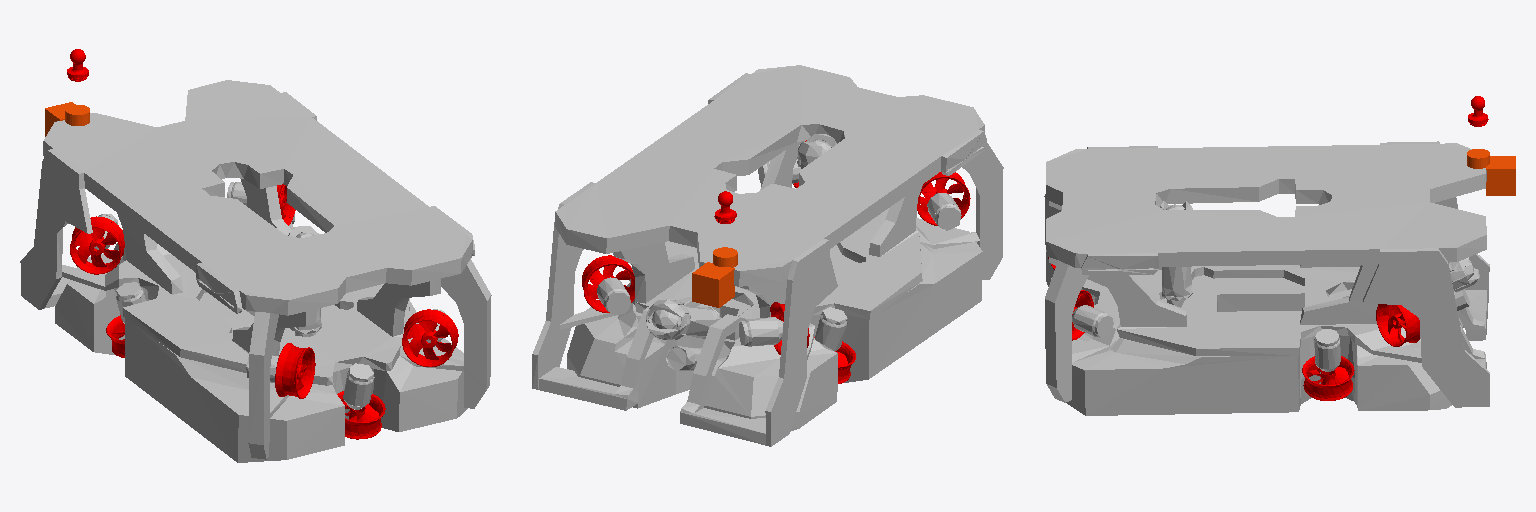
URDF robot description (bluevolta_bravo7_no_ee):
<?xml version="1.0"?>
<robot name="bluevolta_bravo7_no_ee">

        <material name="green">
                <color rgba="0.235 0.702 0.443 1"/>
        </material>

        <material name="blue">
                <color rgba="0.263 0.733 0.984 1"/>
        </material>

        <material name="red">
                <color rgba="1 0 0 1"/>
        </material>

        <material name="black">
                <color rgba="0.8 0.8 0.8 1"/>
        </material>

        <material name="orange">
                <color rgba="1 0.369 0.047 1"/>
        </material>

            <link name="bluevolta">
                <!--Inertial parameters are not correct-->
                <inertial>
                    <mass value="200.0"/>
                    <origin xyz="0 0 0"/>
                    <inertia ixx="0.01152" ixy="0.0" ixz="0.0" iyy="0.01152" iyz="0.0" izz="0.0218"/>
                </inertial>
                <visual>
                    <origin rpy="0 0 0" xyz="0 0 0"/>
                    <geometry>
                        <mesh filename="package://example-robot-data/robots/bluevolta_description/meshes/bluevolta.stl"/>
                    </geometry>
                    <material name="black"/>
                </visual>
                <collision>
                    <origin rpy="0 0 0" xyz="0 0 0"/>
                    <geometry>
                        <mesh filename="package://example-robot-data/robots/bluevolta_description/meshes/bluevolta_convex_hull.stl"/>
                    </geometry>
                </collision>
            </link>

            <!--THRUSTERS-->
            <link name="Thruster_TOP_FL">
                <visual>
                    <geometry>
                        <mesh filename="package://example-robot-data/robots/bluevolta_description/meshes/bluevolta_propeller.stl"/>
                    </geometry>
                    <material name="red"/>
                </visual>
            </link>

            <link name="Thruster_TOP_FR">
                <visual>
                    <geometry>
                        <mesh filename="package://example-robot-data/robots/bluevolta_description/meshes/bluevolta_propeller.stl"/>
                    </geometry>
                    <material name="red"/>
                </visual>
            </link>

            <link name="Thruster_TOP_B">
                <visual>
                    <geometry>
                        <mesh filename="package://example-robot-data/robots/bluevolta_description/meshes/bluevolta_propeller.stl"/>
                    </geometry>
                    <material name="red"/>
                </visual>
            </link>

            <link name="Thruster_BOTTOM_FL">
                <visual>
                    <geometry>
                        <mesh filename="package://example-robot-data/robots/bluevolta_description/meshes/bluevolta_propeller.stl"/>
                    </geometry>
                    <material name="red"/>
                </visual>
            </link>

            <link name="Thruster_BOTTOM_FR">
                <visual>
                    <geometry>
                        <mesh filename="package://example-robot-data/robots/bluevolta_description/meshes/bluevolta_propeller.stl"/>
                    </geometry>
                    <material name="red"/>
                </visual>
            </link>

            <link name="Thruster_BOTTOM_BL">
                <visual>
                    <geometry>
                        <mesh filename="package://example-robot-data/robots/bluevolta_description/meshes/bluevolta_propeller.stl"/>
                    </geometry>
                    <material name="red"/>
                </visual>
            </link>

            <link name="Thruster_BOTTOM_BR">
                <visual>
                    <geometry>
                        <mesh filename="package://example-robot-data/robots/bluevolta_description/meshes/bluevolta_propeller.stl"/>
                    </geometry>
                    <material name="red"/>
                </visual>
            </link>

                    <joint name="Thruster_TOP_FL_joint" type="fixed">
                        <parent link="bluevolta"/>
                        <child link="Thruster_TOP_FL"/>
                        <origin rpy="0.0 1.8 0.0" xyz="0.34 0.25 -0.28"/>
                    </joint>

                    <joint name="Thruster_TOP_FR_joint" type="fixed">
                        <parent link="bluevolta"/>
                        <child link="Thruster_TOP_FR"/>
                        <origin rpy="0.0 1.34 0.0" xyz="-0.34 0.25 -0.28"/>
                    </joint>

                    <joint name="Thruster_TOP_B_joint" type="fixed">
                        <parent link="bluevolta"/>
                        <child link="Thruster_TOP_B"/>
                        <origin rpy="0.0 1.8 -1.57" xyz="0.0 -0.6 -0.3"/>
                    </joint>

                    <joint name="Thruster_BOTTOM_FR_joint" type="fixed">
                        <parent link="bluevolta"/>
                        <child link="Thruster_BOTTOM_FR"/>
                        <origin rpy="0.0 0.0 -2.24" xyz="-0.31 0.52 -0.1"/>
                    </joint>

                    <joint name="Thruster_BOTTOM_BL_joint" type="fixed">
                        <parent link="bluevolta"/>
                        <child link="Thruster_BOTTOM_BL"/>
                        <origin rpy="0.0 0.0 -2.24" xyz="0.27 -0.6 -0.11"/>
                    </joint>

                    <joint name="Thruster_BOTTOM_FL_joint" type="fixed">
                        <parent link="bluevolta"/>
                        <child link="Thruster_BOTTOM_FL"/>
                        <origin rpy="0.0 0.0 -0.9" xyz="0.31 0.52 -0.1"/>
                    </joint>

                    <joint name="Thruster_BOTTOM_BR_joint" type="fixed">
                        <parent link="bluevolta"/>
                        <child link="Thruster_BOTTOM_BR"/>
                        <origin rpy="0.0 0.0 -0.9" xyz="-0.27 -0.6 -0.11"/>
                    </joint>

        <!--Arm attaching link-->
        <link name="box_base_bravo">
            <visual>
                <geometry>
                    <box size="0.1 0.1 0.1"/>
                </geometry>
                <material name="orange"/>
            </visual>
        </link>

                <joint name="box_base_bravo_joint" type="fixed">
                        <origin xyz="-0.25 0.835 0.17" rpy="0 0 0"/>
                    <parent link="bluevolta"/>
                    <child link="box_base_bravo"/>
                </joint>

                <joint name="base2arm" type="fixed">
                    <parent link="box_base_bravo"/>
                    <child link="link1"/>
                    <origin rpy="3.14 0.0 1.57" xyz="0 -0.05 -0.05"/>
                </joint>

          <!-- Bravo7 with sphere end-effector -->
            <link name="link1">
                <visual>
                    <geometry>
                        <mesh filename="package://example-robot-data/robots/bravo7_description/meshes/RS2-266.stl"/>
                    </geometry>
                    <material name="blue"/>
                </visual>
                <inertial>
                    <mass value="1.25"/>
                    <origin xyz="-0.075 -0.006 -0.003"/>
                    <inertia ixx="0.002108" ixy="0.000182" ixz="-0.000015" iyy="0.002573" iyz="-0.000021" izz="0.003483"/>
                </inertial>
                <collision>
                    <geometry>
                        <mesh filename="package://example-robot-data/robots/bravo7_description/meshes/RS2-266_convex_hull.stl"/>
                    </geometry>
                </collision>
            </link>

                    <joint name="joint1" type="continuous">
                        <parent link="link1"/>
                        <child link="link2"/>
                        <origin rpy="0 0 0" xyz="0.0665 0 0.078"/>
                        <axis xyz="0 0 -1"/>
                    </joint>

            <link name="link2">
                <visual>
                    <geometry>
                        <mesh filename="package://example-robot-data/robots/bravo7_description/meshes/RS2-217.stl"/>
                    </geometry>
                    <material name="green"/>
                </visual>
                <inertial>
                        <mass value="1.55" />
                        <inertia ixx="0.011442" ixy="-0.000484" ixz="0.003405" iyy="0.01298" iyz="-0.001265" izz="0.003202"/>
                        <origin xyz="0.005 -0.001 0.016" />
                </inertial>
                <collision>
                    <geometry>
                        <mesh filename="package://example-robot-data/robots/bravo7_description/meshes/RS2-217_convex_hull.stl"/>
                    </geometry>
                </collision>
            </link>

                    <joint name="joint2" type="revolute">
                        <parent link="link2"/>
                        <child link="link3"/>
                        <origin rpy="0 0 0" xyz="-0.046 0 0.0674"/>
                        <axis xyz="0 1 0"/>
                        <limit effort="9.0" lower="0.0" upper="3.5" velocity="0.5"/>
                    </joint>

            <link name="link3">
                <visual>
                    <geometry>
                        <mesh filename="package://example-robot-data/robots/bravo7_description/meshes/RS2-250-212-214.stl"/>
                    </geometry>
                    <material name="blue"/>
                </visual>
                <inertial>
                    <mass value="1.14" />
                    <origin xyz="0.022 -0.029 0.001" />
                    <inertia ixx="0.003213" ixy="-0.001548" ixz="-0.000031" iyy="0.002327" iyz="0.000006" izz="0.00434"/>
                </inertial>
                <collision>
                    <geometry>
                        <mesh filename="package://example-robot-data/robots/bravo7_description/meshes/RS2-250-212-214_convex_hull.stl"/>
                    </geometry>
                </collision>
            </link>

                    <joint name="joint3" type="revolute">
                        <parent link="link3"/>
                        <child link="link4"/>
                        <origin rpy="0 0 0" xyz="-0.0052 0 -0.29055"/>
                        <axis xyz="0 1 0"/>
                        <limit effort="9.0" lower="0.0" upper="3.5" velocity="0.5"/>
                    </joint>

            <link name="link4">
                <visual>
                    <geometry>
                        <mesh filename="package://example-robot-data/robots/bravo7_description/meshes/RS2-268.stl"/>
                    </geometry>
                    <material name="green"/>
                </visual>
                <collision>
                    <geometry>
                        <mesh filename="package://example-robot-data/robots/bravo7_description/meshes/RS2-268_convex_hull.stl"/>
                    </geometry>
                    <material name="green"/>
                </collision>
                <inertial>
                    <origin xyz="0.017 -0.026 -0.002" rpy="0.0 -0.0 0.0" />
                    <mass value="1.14" />
                    <inertia ixx="0.021232" ixy="0.00033" ixz="-0.003738" iyy="0.022252" iyz="-0.001278" izz="0.002054"/>
                </inertial>
            </link>

                    <joint name="joint4" type="continuous">
                        <parent link="link4"/>
                        <child link="link5"/>
                        <origin rpy="0 0 0" xyz="0.0408 0 0.09695"/>
                        <axis xyz="0 0 -1"/>
                    </joint>

            <link name="link5">
                <visual>
                    <geometry>
                        <mesh filename="package://example-robot-data/robots/bravo7_description/meshes/RS2-214.stl"/>
                    </geometry>
                    <material name="blue"/>
                </visual>
                <inertial>
                    <mass value="1.03" />
                    <origin xyz="0.020 -0.024 0.001" />
                    <inertia ixx="0.00243" ixy="-0.001144" ixz="-0.00004" iyy="0.002026" iyz="0.000011" izz="0.00333"/>
                </inertial>
                <collision>
                    <geometry>
                        <mesh filename="package://example-robot-data/robots/bravo7_description/meshes/RS2-214_convex_hull.stl"/>
                    </geometry>
                </collision>
            </link>

                    <joint name="joint5" type="revolute">
                        <parent link="link5"/>
                        <child link="link6"/>
                        <origin rpy="0 0 0" xyz="-0.0408 0 0.063"/>
                        <axis xyz="0 1 0"/>
                        <limit effort="9.0" lower="0.0" upper="3.5" velocity="0.5"/>
                    </joint>

            <link name="link6">
                <visual>
                    <geometry>
                        <mesh filename="package://example-robot-data/robots/bravo7_description/meshes/RS2-161.stl"/>
                    </geometry>
                    <material name="green"/>
                </visual>
                <inertial>
                    <origin xyz="0.0 0.003 -0.098" rpy="0.0 -0.0 0.0" />
                    <mass value="0.333" />
                    <inertia ixx="0.003709" ixy="-0.000002" ixz="-0.000004" iyy="0.003734" iyz="0.0" izz="0.000079" />
                </inertial>
                <collision>
                    <geometry>
                        <mesh filename="package://example-robot-data/robots/bravo7_description/meshes/RS2-161_convex_hull.stl"/>
                    </geometry>
                </collision>
            </link>

                    <joint name="joint6" type="continuous">
                        <parent link="link6"/>
                        <child link="link7"/>
                        <origin rpy="0 3.14159 0" xyz="-0.0408 0 -0.14863"/>
                        <axis xyz="0 0 -1"/>
                    </joint>

            <link name="link7">
                <visual>
                    <geometry>
                        <mesh filename="package://example-robot-data/robots/bravo7_description/meshes/RS2-180.stl"/>
                    </geometry>
                    <material name="blue"/>
                </visual>
                <inertial>
                    <origin xyz="0.0 0.003 -0.098" />
                    <mass value="1.04" />
                    <inertia ixx="0.022359" ixy="0.000001" ixz="-0.000019" iyy="0.022363" iyz="0.000015" izz="0.000936"/>
                </inertial>
                <collision>
                    <geometry>
                        <mesh filename="package://example-robot-data/robots/bravo7_description/meshes/RS2-180_convex_hull.stl"/>
                    </geometry>
                </collision>
            </link>

            <link name="force_torque_sensor">
                <visual>
                    <geometry>
                        <cylinder length="0.06" radius="0.04"/>
                    </geometry>
                    <material name="orange"/>
                </visual>
                <collision>
                    <geometry>
                        <cylinder length="0.06" radius="0.04"/>
                    </geometry>
                    <material name="orange"/>
                </collision>
            </link>

                    <joint name="FT_fixed_1" type="fixed">
                        <origin rpy="0 0 1.57" xyz=" 0 0 -0.03"/>
                        <parent link="link7"/>
                        <child link="force_torque_sensor"/>
                    </joint>

            <link name="end_effector_ball">
                <visual>
                    <geometry>
                        <mesh filename="package://example-robot-data/robots/bravo7_description/meshes/end_effectors/contact_sphere.stl"/>
                    </geometry>
                    <material name="red"/>
                </visual>
                <collision>
                    <geometry>
                        <mesh filename="package://example-robot-data/robots/bravo7_description/meshes/end_effectors/contact_sphere_convex_hull.stl"/>
                    </geometry>
                    <material name="red"/>
                </collision>
            </link>

                    <joint name="bravo_EE_joint" type="fixed">
                        <origin rpy="0 -1.57 0" xyz=" 0.045 -0.035 0.113"/>
                        <parent link="link7"/>
                        <child link="end_effector_ball"/>
                    </joint>

            <link name="contact_point"/>

                    <joint name="contact_point_joint" type="fixed">
                        <origin rpy="0 0 0" xyz="0 0 0.24"/>
                        <parent link="force_torque_sensor"/>
                        <child link="contact_point"/>
                    </joint>
</robot>

--- What the picture shows (computed from the rendered views, not written in the file) ---
Views: 3 orthographic renders of the robot side by side, from view 1: azimuth 30°, elevation 25°; view 2: azimuth 150°, elevation 25°; view 3: azimuth 270°, elevation 25°.
Model bluevolta_bravo7_no_ee with 19 links and 18 joints (3 revolute, 3 continuous, 12 fixed), rooted at bluevolta, posed all joints at 0.
Visible links, largest first — view 1: bluevolta, Thruster_BOTTOM_BL, Thruster_BOTTOM_FR, Thruster_BOTTOM_BR, Thruster_TOP_B, Thruster_TOP_FR; view 2: bluevolta, box_base_bravo, Thruster_BOTTOM_FL, Thruster_BOTTOM_BR, Thruster_TOP_FR; view 3: bluevolta, Thruster_TOP_FL, Thruster_BOTTOM_FL, box_base_bravo.
Boxes of the visible links, box(x1,y1,x2,y2) form: bluevolta: box(20, 80, 491, 462); Thruster_BOTTOM_BL: box(402, 309, 458, 366); Thruster_BOTTOM_FR: box(70, 216, 124, 274); Thruster_BOTTOM_BR: box(275, 343, 315, 398); Thruster_TOP_B: box(337, 391, 385, 439); Thruster_TOP_FR: box(106, 315, 124, 357); bluevolta: box(532, 65, 1003, 446); box_base_bravo: box(692, 262, 734, 307); Thruster_BOTTOM_FL: box(582, 255, 634, 312); Thruster_BOTTOM_BR: box(917, 172, 970, 225); Thruster_TOP_FR: box(814, 337, 855, 383); bluevolta: box(1044, 141, 1489, 415); Thruster_TOP_FL: box(1302, 356, 1354, 400); Thruster_BOTTOM_FL: box(1376, 304, 1419, 346); box_base_bravo: box(1486, 156, 1515, 195).
Size in the robot's own frame: 0.8943 by 1.6 by 0.9311 metres.
Meshes: 10 distinct files referenced, 9 mesh visuals loaded (3 binary STL); not drawn: 7 (reference not matched to a file when rendering).